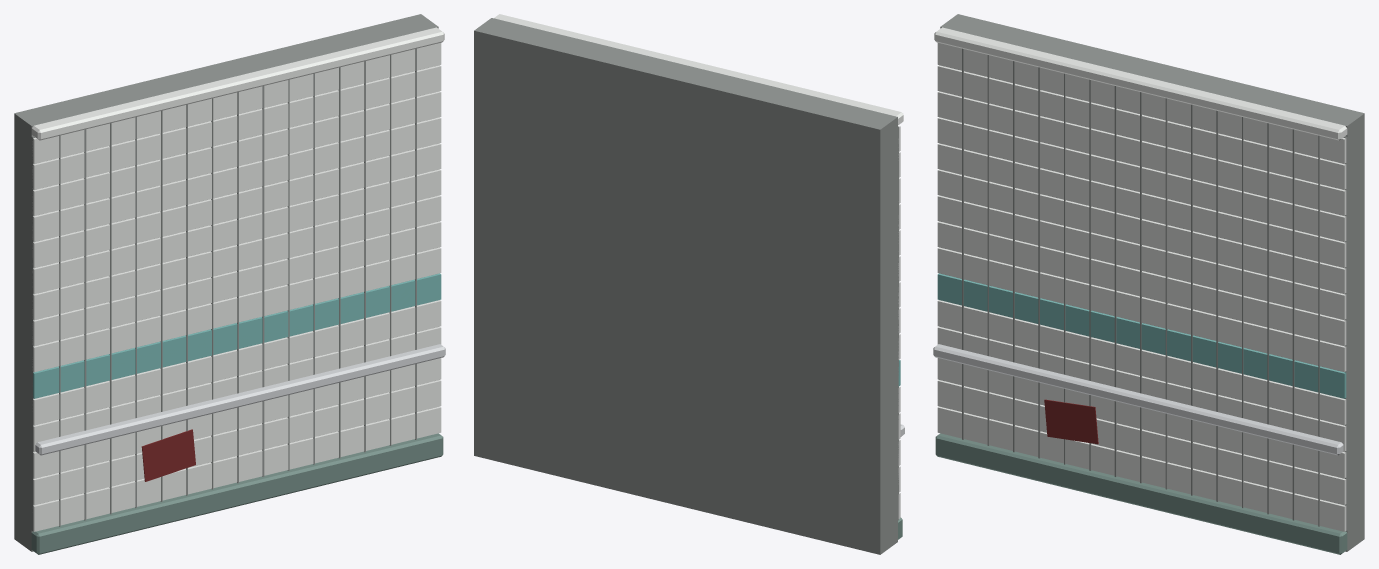
The model's file is wall_hs_tile2.glb.
The picture shows the model from 3 angles, left to right: view 1: azimuth 30°, elevation 25°; view 2: azimuth 150°, elevation 25°; view 3: azimuth 330°, elevation 25°; orthographic projection.
Parts seen in each view (by area): view 1: wall_hs_tile2; view 2: wall_hs_tile2; view 3: wall_hs_tile2.
Part boxes in pixels (x1,y1,x2,y2): wall_hs_tile2: [14, 14, 445, 554]; wall_hs_tile2: [474, 14, 904, 554]; wall_hs_tile2: [933, 14, 1364, 554].
Size of the model in its own units: 4 by 4 by 0.44.
